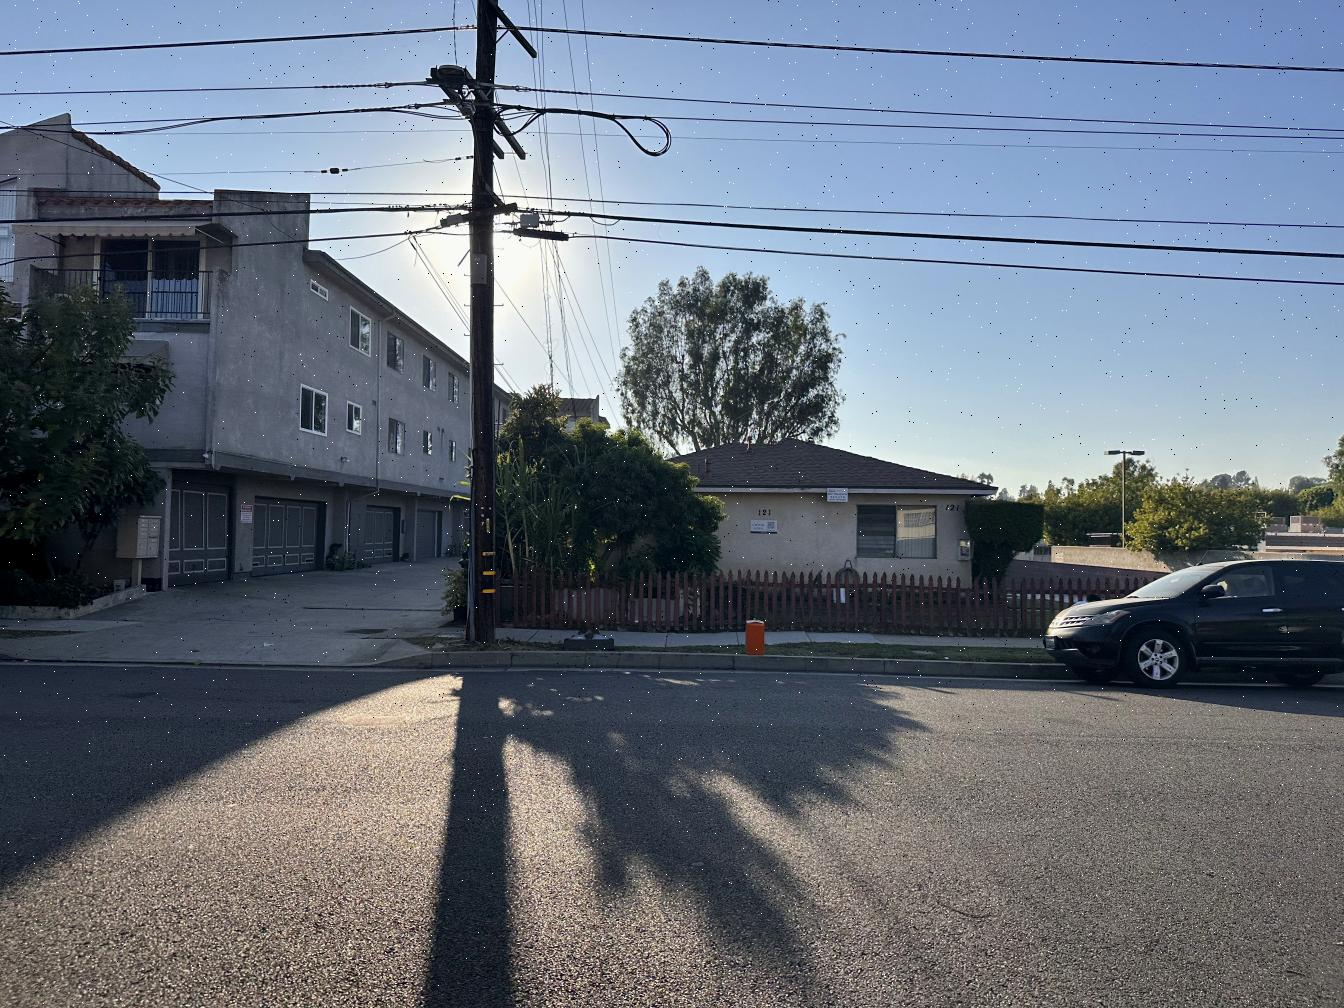curbs-laRr: (746, 653, 1046, 680), (437, 649, 744, 670)
orange box: (745, 620, 766, 655)
